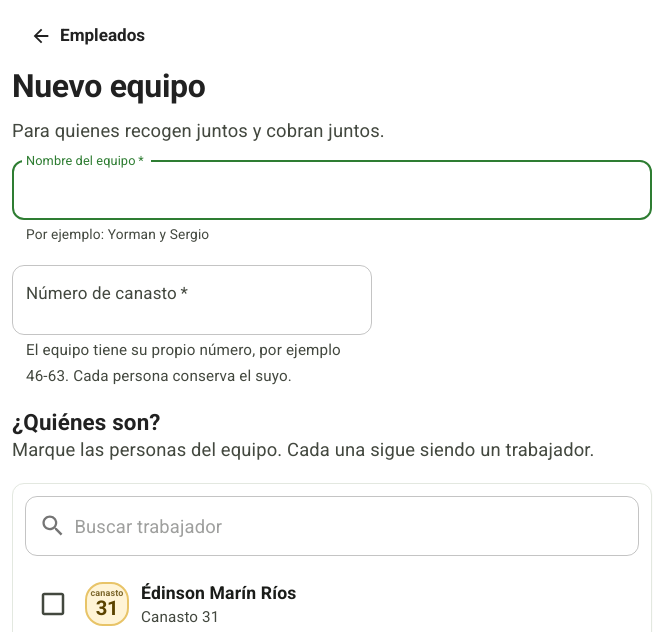
Test: the new team form › finds people by name and says when nobody matches
This screenshot has width=669, height=632.
Type "María" into the field with placeholder "Buscar trabajador".
click(357, 526); type("María")  # box [74,496,639,556]
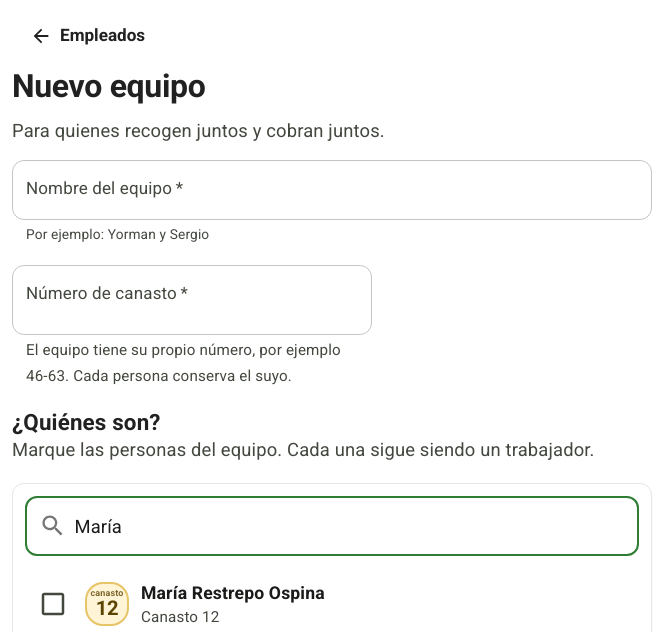
Replace the text in the field with placeholder "Buscar trabajador" with "zzzz nadie" at (357, 526), box [74,496,639,556]
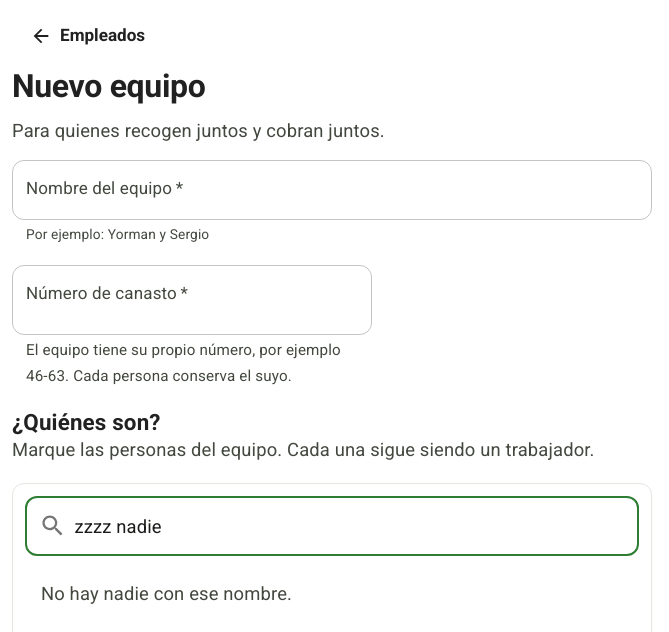
Expected: the text "No hay nadie con ese nombre." is shown, [41,583,292,604]
